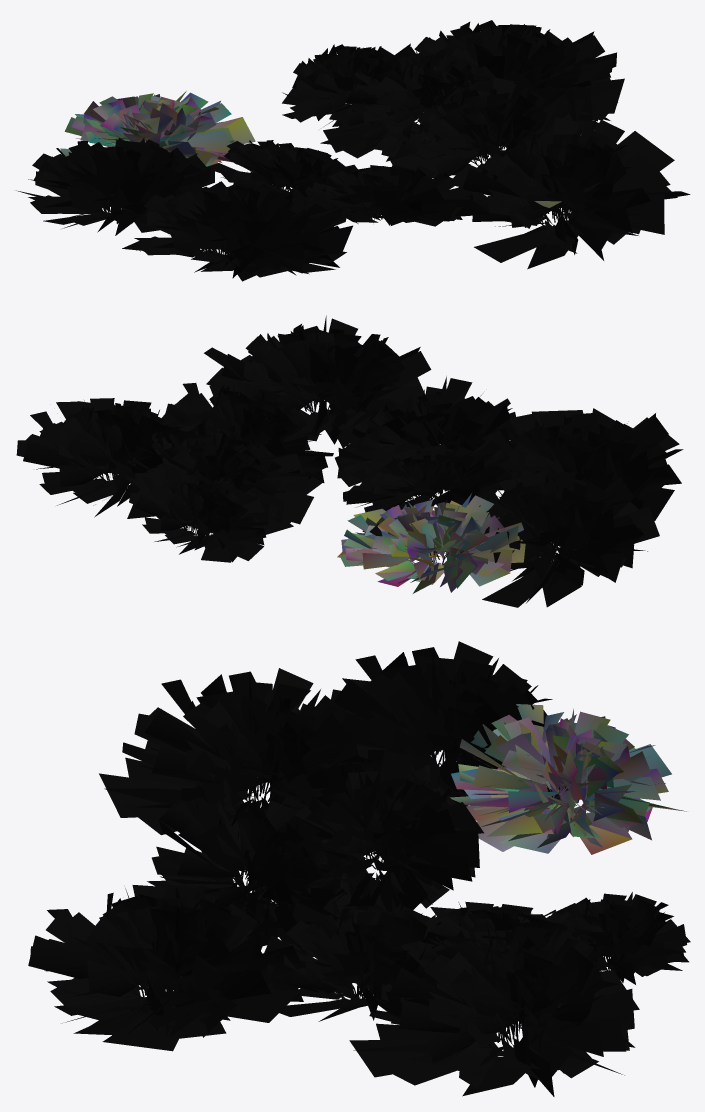
Rendered from Woods_Bushes_16_CMB.gltf.
The picture shows the model from 3 angles, top to bottom: view 1: azimuth 30°, elevation 25°; view 2: azimuth 150°, elevation 25°; view 3: azimuth 270°, elevation 25°; orthographic projection. The views are drawn at different scales.
Parts seen in each view (by area): view 1: Woods_Bushes_16_CMB; view 2: Woods_Bushes_16_CMB; view 3: Woods_Bushes_16_CMB.
Boxes of the visible parts, x1=… form: Woods_Bushes_16_CMB: x1=16, y1=20, x2=690, y2=281; Woods_Bushes_16_CMB: x1=16, y1=315, x2=683, y2=607; Woods_Bushes_16_CMB: x1=28, y1=641, x2=690, y2=1096.
Bounding box in the file's own units: 380 × 57.32 × 279.
